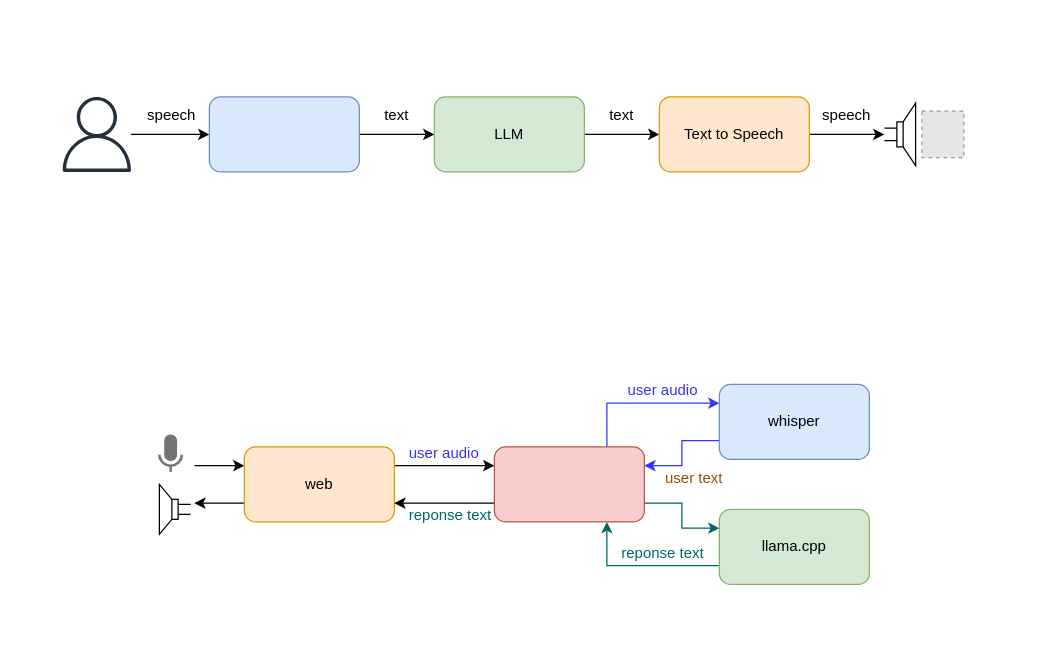
The diagram is 1043 pixels wide and 668 high, and some of its shapes have lost their labels. Grey dashed boxes stand in for pictures. Each missing label, with the centre of its shape:
"Speech Recognition" belongs at (283,134).
"WebSocket server" belongs at (568,484).
